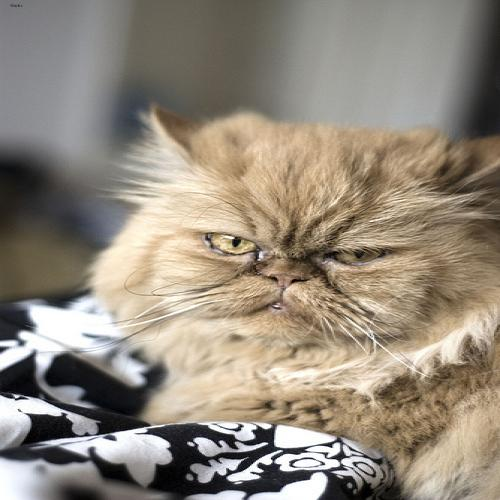persian: (115, 99, 500, 373)
